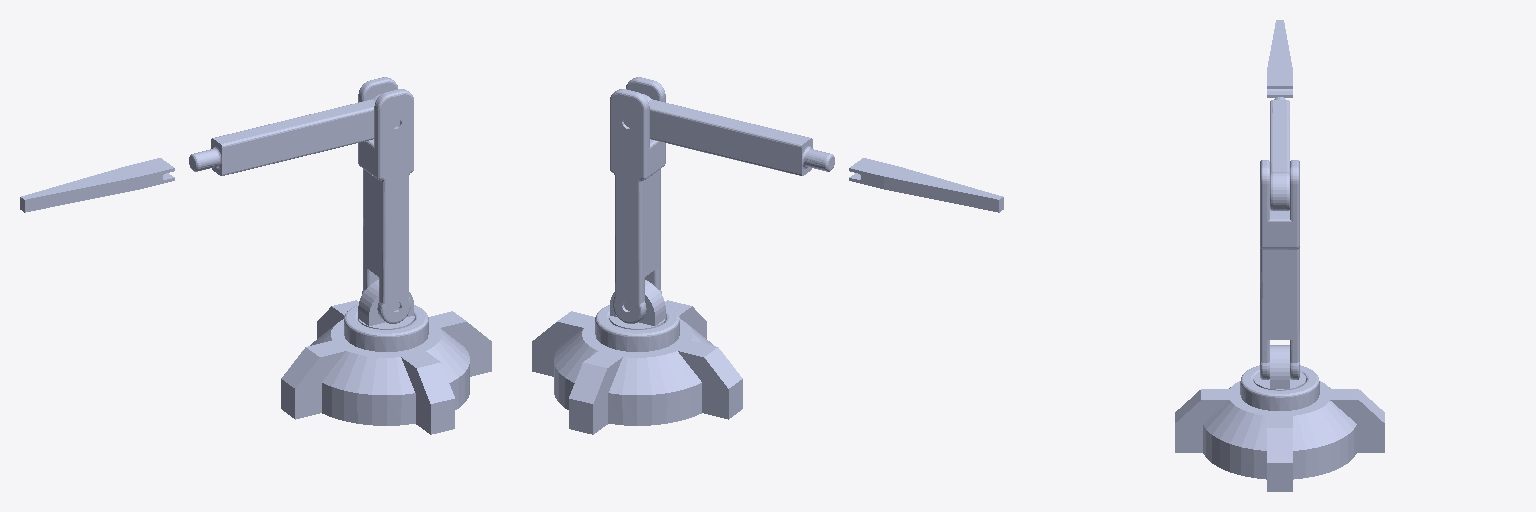
URDF robot description (Archivos_URDF):
<?xml version="1.0" encoding="utf-8"?>
<!-- This URDF was automatically created by SolidWorks to URDF Exporter! Originally created by [author] ([email redacted]) 
     Commit Version: 1.6.0-1-g15f4949  Build Version: 1.6.7594.29634
     For more information, please see http://wiki.ros.org/sw_urdf_exporter -->
<robot
  name="Archivos_URDF">
  <link
    name="base_link">
    <inertial>
      <origin
        xyz="1.04083408558608E-17 -4.74419593662523E-18 0.0211342975511615"
        rpy="0 0 0" />
      <mass
        value="0.513305048081214" />
      <inertia
        ixx="0.000589039873810118"
        ixy="-2.9778502051909E-20"
        ixz="8.12582872741327E-21"
        iyy="0.000589039873810118"
        iyz="-3.54329283145971E-20"
        izz="0.000998091548426159" />
    </inertial>
    <visual>
      <origin
        xyz="0 0 0"
        rpy="0 0 0" />
      <geometry>
        <mesh
          filename="package://modelo_robot/meshes/base_link.STL" />
      </geometry>
      <material
        name="">
        <color
          rgba="0.792156862745098 0.819607843137255 0.933333333333333 1" />
      </material>
    </visual>
    <collision>
      <origin
        xyz="0 0 0"
        rpy="0 0 0" />
      <geometry>
        <mesh
          filename="package://modelo_robot/meshes/base_link.STL" />
      </geometry>
    </collision>
  </link>
  <link
    name="Link_2">
    <inertial>
      <origin
        xyz="-1.73472347597681E-18 1.1280828360068E-08 0.0585415312896596"
        rpy="0 0 0" />
      <mass
        value="0.0298150173902571" />
      <inertia
        ixx="5.28316251610019E-06"
        ixy="3.04330184981795E-23"
        ixz="1.72063828620642E-22"
        iyy="6.17773839822544E-06"
        iyz="-4.1599871884896E-12"
        izz="4.82762081896035E-06" />
    </inertial>
    <visual>
      <origin
        xyz="0 0 0"
        rpy="0 0 0" />
      <geometry>
        <mesh
          filename="package://modelo_robot/meshes/Link_2.STL" />
      </geometry>
      <material
        name="">
        <color
          rgba="0.792156862745098 0.819607843137255 0.933333333333333 1" />
      </material>
    </visual>
    <collision>
      <origin
        xyz="0 0 0"
        rpy="0 0 0" />
      <geometry>
        <mesh
          filename="package://modelo_robot/meshes/Link_2.STL" />
      </geometry>
    </collision>
  </link>
  <joint
    name="Joint_2"
    type="revolute">
    <origin
      xyz="0 0 0"
      rpy="0 0 0" />
    <parent
      link="base_link" />
    <child
      link="Link_2" />
    <axis
      xyz="0 0 1" />
    <limit
      lower="0"
      upper="3.142"
      effort="300"
      velocity="3" />
  </joint>
  <link
    name="Link_3">
    <inertial>
      <origin
        xyz="-5.20417042793042E-18 0.0812673430675752 -6.88505437219738E-18"
        rpy="0 0 0" />
      <mass
        value="0.100483555337623" />
      <inertia
        ixx="0.000209422011369855"
        ixy="2.64949697662501E-20"
        ixz="6.39301353680916E-12"
        iyy="1.43468981376173E-05"
        iyz="1.49806768256933E-20"
        izz="0.000205738967942235" />
    </inertial>
    <visual>
      <origin
        xyz="0 0 0"
        rpy="0 0 0" />
      <geometry>
        <mesh
          filename="package://modelo_robot/meshes/Link_3.STL" />
      </geometry>
      <material
        name="">
        <color
          rgba="0.792156862745098 0.819607843137255 0.933333333333333 1" />
      </material>
    </visual>
    <collision>
      <origin
        xyz="0 0 0"
        rpy="0 0 0" />
      <geometry>
        <mesh
          filename="package://modelo_robot/meshes/Link_3.STL" />
      </geometry>
    </collision>
  </link>
  <joint
    name="Joint_3"
    type="revolute">
    <origin
      xyz="0 0 0.07091"
      rpy="1.5708 0 0" />
    <parent
      link="Link_2" />
    <child
      link="Link_3" />
    <axis
      xyz="0 0 -1" />
    <limit
      lower="-1.57"
      upper="1.57"
      effort="200"
      velocity="3" />
  </joint>
  <link
    name="Link_4">
    <inertial>
      <origin
        xyz="-0.0650141812421137 -0.012499999992724 -4.8132443444162E-07"
        rpy="0 0 0" />
      <mass
        value="0.0607663214998903" />
      <inertia
        ixx="4.22320871694822E-06"
        ixy="2.48026695674233E-14"
        ixz="-1.08820986114423E-09"
        iyy="0.000133882737654174"
        iyz="8.15378607161622E-12"
        izz="0.000135777021450488" />
    </inertial>
    <visual>
      <origin
        xyz="0 0 0"
        rpy="0 0 0" />
      <geometry>
        <mesh
          filename="package://modelo_robot/meshes/Link_4.STL" />
      </geometry>
      <material
        name="">
        <color
          rgba="0.792156862745098 0.819607843137255 0.933333333333333 1" />
      </material>
    </visual>
    <collision>
      <origin
        xyz="0 0 0"
        rpy="0 0 0" />
      <geometry>
        <mesh
          filename="package://modelo_robot/meshes/Link_4.STL" />
      </geometry>
    </collision>
  </link>
  <joint
    name="Joint_4"
    type="revolute">
    <origin
      xyz="0 0.1555 0"
      rpy="0 0 0" />
    <parent
      link="Link_3" />
    <child
      link="Link_4" />
    <axis
      xyz="0 0 1" />
    <limit
      lower="0"
      upper="3.142"
      effort="200"
      velocity="3" />
  </joint>
  <link
    name="Link_5">
    <inertial>
      <origin
        xyz="-2.01424434857073E-18 1.11022302462516E-16 -0.019928523878268"
        rpy="0 0 0" />
      <mass
        value="0.0460123556163477" />
      <inertia
        ixx="9.12035370421495E-06"
        ixy="4.41713259897679E-16"
        ixz="-9.08745942028911E-22"
        iyy="1.04988293472204E-05"
        iyz="-8.91718671189687E-22"
        izz="1.38630378204512E-05" />
    </inertial>
    <visual>
      <origin
        xyz="0 0 0"
        rpy="0 0 0" />
      <geometry>
        <mesh
          filename="package://modelo_robot/meshes/Link_5.STL" />
      </geometry>
      <material
        name="">
        <color
          rgba="0.792156862745098 0.819607843137255 0.933333333333333 1" />
      </material>
    </visual>
    <collision>
      <origin
        xyz="0 0 0"
        rpy="0 0 0" />
      <geometry>
        <mesh
          filename="package://modelo_robot/meshes/Link_5.STL" />
      </geometry>
    </collision>
  </link>
  <joint
    name="Joint_5"
    type="revolute">
    <origin
      xyz="-0.1483 -0.0125 0"
      rpy="0 1.5708 0" />
    <parent
      link="Link_4" />
    <child
      link="Link_5" />
    <axis
      xyz="0 0 -1" />
    <limit
      lower="0"
      upper="3.142"
      effort="200"
      velocity="3" />
  </joint>
  <link
    name="Link_6">
    <inertial>
      <origin
        xyz="0.0039758805416412 -0.00249999999999997 0.0431691091091901"
        rpy="0 0 0" />
      <mass
        value="0.00820216814692821" />
      <inertia
        ixx="7.8317509381251E-06"
        ixy="3.93622840678767E-23"
        ixz="2.57194483482804E-07"
        iyy="7.81536660904896E-06"
        iyz="-1.44347691795897E-21"
        izz="1.26431924624515E-07" />
    </inertial>
    <visual>
      <origin
        xyz="0 0 0"
        rpy="0 0 0" />
      <geometry>
        <mesh
          filename="package://modelo_robot/meshes/Link_6.STL" />
      </geometry>
      <material
        name="">
        <color
          rgba="0.792156862745098 0.819607843137255 0.933333333333333 1" />
      </material>
    </visual>
    <collision>
      <origin
        xyz="0 0 0"
        rpy="0 0 0" />
      <geometry>
        <mesh
          filename="package://modelo_robot/meshes/Link_6.STL" />
      </geometry>
    </collision>
  </link>
  <joint
    name="Joint_6"
    type="prismatic">
    <origin
      xyz="0 0.0025 -0.038"
      rpy="-3.1416 0 3.1416" />
    <parent
      link="Link_5" />
    <child
      link="Link_6" />
    <axis
      xyz="-1 0 0" />
    <limit
      lower="0"
      upper="0.03"
      effort="100"
      velocity="3" />
  </joint>
  <link
    name="Link_7">
    <inertial>
      <origin
        xyz="-0.00397588054164117 -0.00249999999999997 0.0431691091091901"
        rpy="0 0 0" />
      <mass
        value="0.00820216814692821" />
      <inertia
        ixx="7.8317509381251E-06"
        ixy="-3.18464546859489E-23"
        ixz="-2.57194483482806E-07"
        iyy="7.81536660904896E-06"
        iyz="-1.54058224043887E-21"
        izz="1.26431924624515E-07" />
    </inertial>
    <visual>
      <origin
        xyz="0 0 0"
        rpy="0 0 0" />
      <geometry>
        <mesh
          filename="package://modelo_robot/meshes/Link_7.STL" />
      </geometry>
      <material
        name="">
        <color
          rgba="0.792156862745098 0.819607843137255 0.933333333333333 1" />
      </material>
    </visual>
    <collision>
      <origin
        xyz="0 0 0"
        rpy="0 0 0" />
      <geometry>
        <mesh
          filename="package://modelo_robot/meshes/Link_7.STL" />
      </geometry>
    </collision>
  </link>
  <joint
    name="Joint_7"
    type="prismatic">
    <origin
      xyz="0 0.0025 -0.038"
      rpy="-3.1416 0 3.1416" />
    <parent
      link="Link_5" />
    <child
      link="Link_7" />
    <axis
      xyz="-1 0 0" />
    <limit
      lower="-0.03"
      upper="0"
      effort="100"
      velocity="3" />
  </joint>
</robot>

--- What the picture shows (computed from the rendered views, not written in the file) ---
The picture shows the robot from 3 angles, left to right: view 1: azimuth 30°, elevation 25°; view 2: azimuth 150°, elevation 25°; view 3: azimuth 270°, elevation 25°; orthographic projection.
Model Archivos_URDF with 7 links and 6 joints (4 revolute, 2 prismatic), rooted at base_link, posed all joints at 0.
Visible links, largest first — view 1: base_link, Link_3, Link_4, Link_6, Link_2, Link_7; view 2: base_link, Link_3, Link_4, Link_7, Link_2, Link_6; view 3: base_link, Link_3, Link_4, Link_2, Link_6, Link_7.
Boxes of the visible links, left/top/right/bottom form: base_link: left=281, top=300, right=491, bottom=434; Link_3: left=358, top=77, right=413, bottom=323; Link_4: left=189, top=94, right=399, bottom=175; Link_6: left=23, top=163, right=174, bottom=212; Link_2: left=358, top=280, right=414, bottom=329; Link_7: left=20, top=158, right=166, bottom=210; base_link: left=532, top=300, right=742, bottom=434; Link_3: left=610, top=77, right=665, bottom=323; Link_4: left=624, top=94, right=834, bottom=175; Link_7: left=849, top=163, right=1000, bottom=212; Link_2: left=609, top=280, right=665, bottom=329; Link_6: left=857, top=158, right=1003, bottom=210; base_link: left=1175, top=365, right=1384, bottom=491; Link_3: left=1260, top=160, right=1299, bottom=379; Link_4: left=1270, top=97, right=1289, bottom=210; Link_2: left=1254, top=345, right=1305, bottom=390; Link_6: left=1267, top=20, right=1279, bottom=97; Link_7: left=1280, top=20, right=1292, bottom=97.
Size in the robot's own frame: 0.3767 by 0.16 by 0.2374 metres.
6 mesh visuals loaded from 7 distinct referenced files (6 binary STL); not drawn: 1 (reference not matched to a file when rendering).